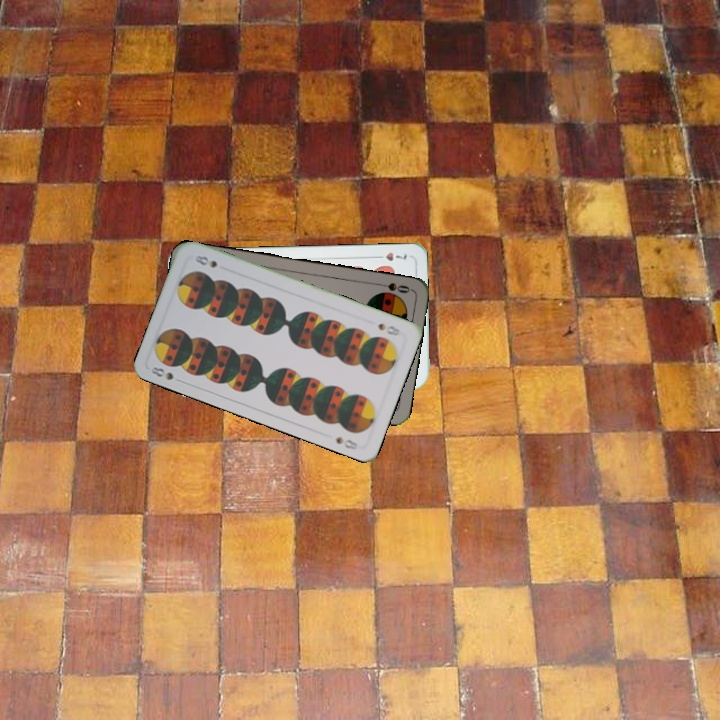H7: (370, 248, 409, 263)
S8: (147, 363, 186, 386), (374, 319, 403, 338)
SO: (373, 279, 413, 296)
